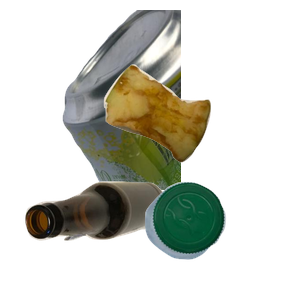glass: (23, 179, 183, 300)
metal: (60, 10, 300, 190)
plastic: (142, 179, 300, 300)
trash: (101, 62, 300, 217)
